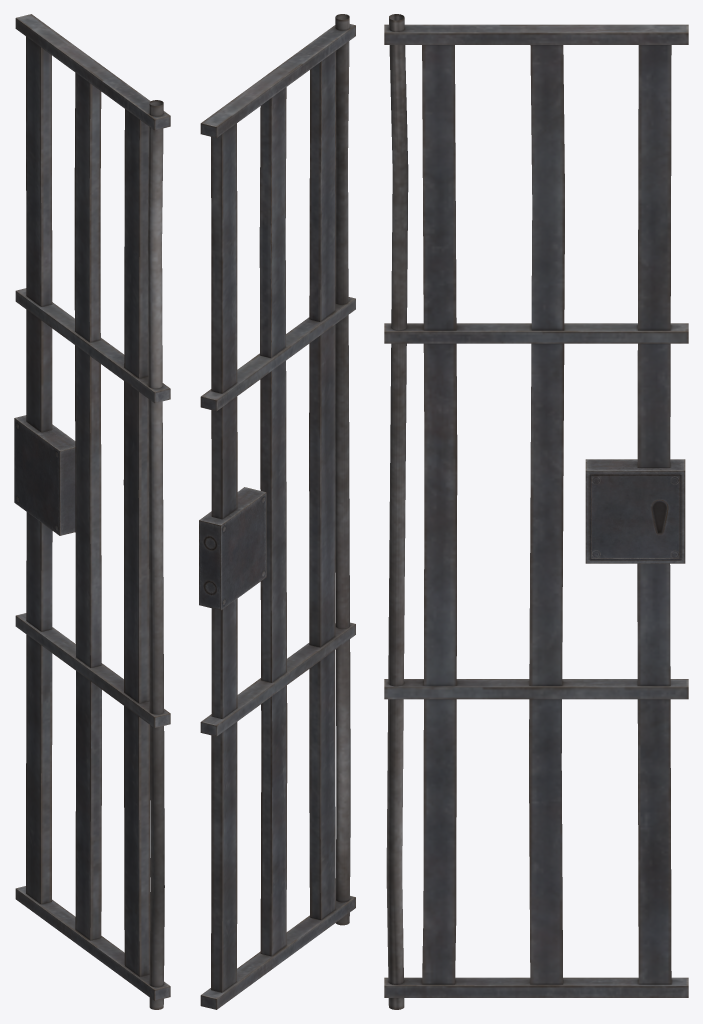
The model's file is Cell_1_Door.fbx.
3 views of the same model, side by side, from view 1: azimuth 30°, elevation 25°; view 2: azimuth 150°, elevation 25°; view 3: azimuth 270°, elevation 25° (orthographic). The views are drawn at different scales.
Parts seen in each view (by area): view 1: Cell_1_Door; view 2: Cell_1_Door; view 3: Cell_1_Door.
Boxes of the visible parts, x1,y1,x2,y2 form: Cell_1_Door: (14,14,170,1009); Cell_1_Door: (199,14,355,1009); Cell_1_Door: (384,14,688,1009).
Size of the model in its own units: 3.01 by 119 by 33.07.
